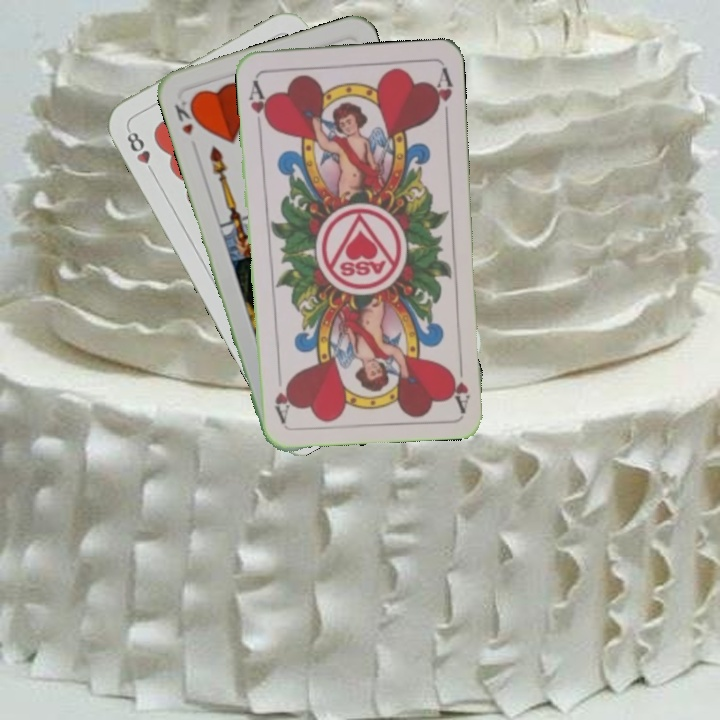H8: (122, 124, 158, 178)
HA: (445, 353, 473, 413), (245, 76, 273, 133)
HK: (170, 93, 202, 138)
